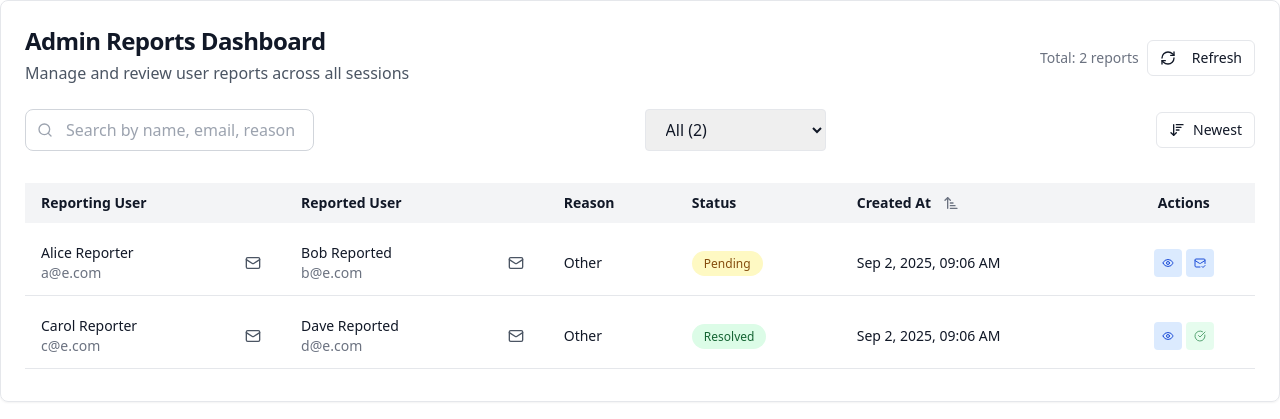
Test: ReportingContent › filters by search and status
Expected: the text "Alice Reporter" is shown, [41,243,134,263]
Type "Bob" into the field with placeholder "Search by name, email, reason , or report ID…" at (170, 130), box [25,109,314,151]
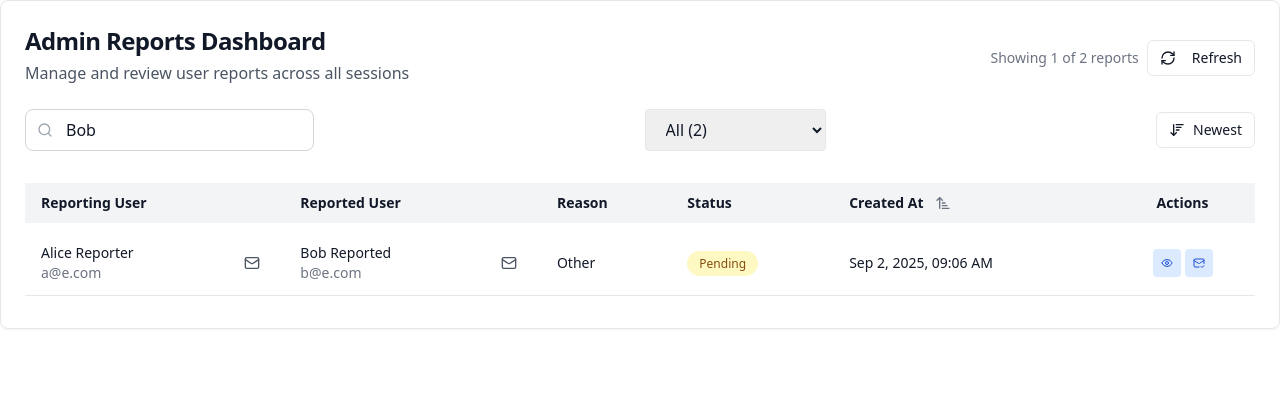
Expected: the text "Bob Reported" is shown, [300,243,391,263]
Expected: the text "Dave Reported" is gone
Clear the field with placeholder "Search by name, email, reason , or report ID…" at (170, 130), box [25,109,314,151]
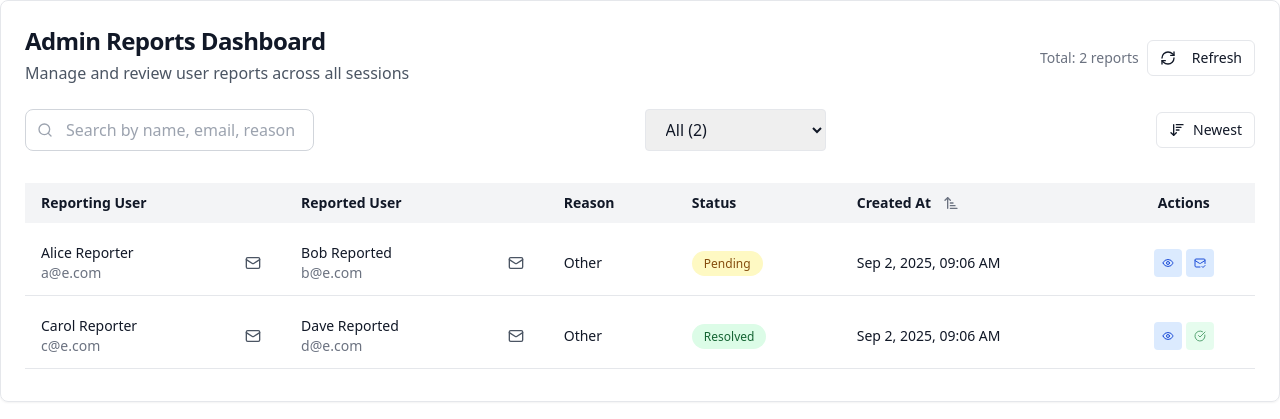
Select "Resolved (1)" in the dropdown showing "All" at (735, 130), box [644,109,826,151]
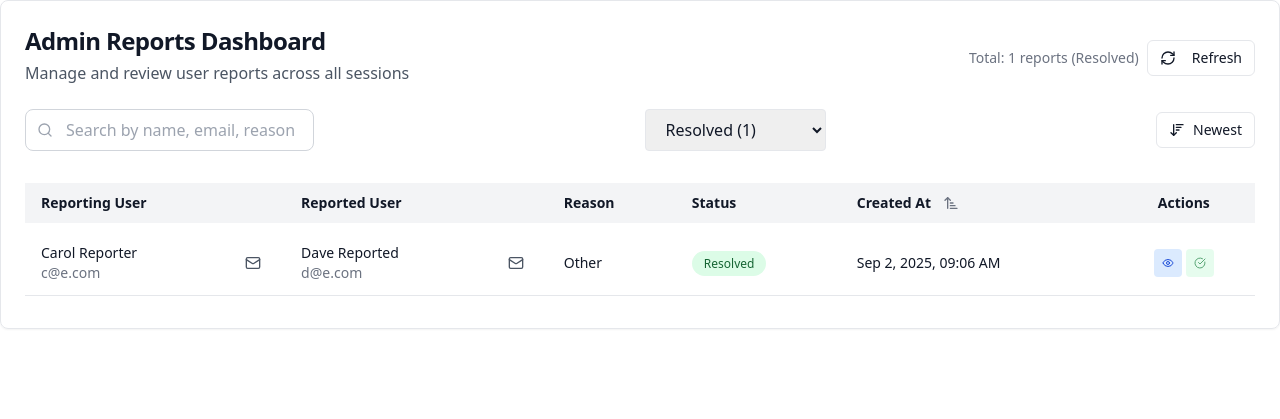
Expected: the text "Dave Reported" is shown, [301,243,399,263]
Expected: the text "Bob Reported" is gone
